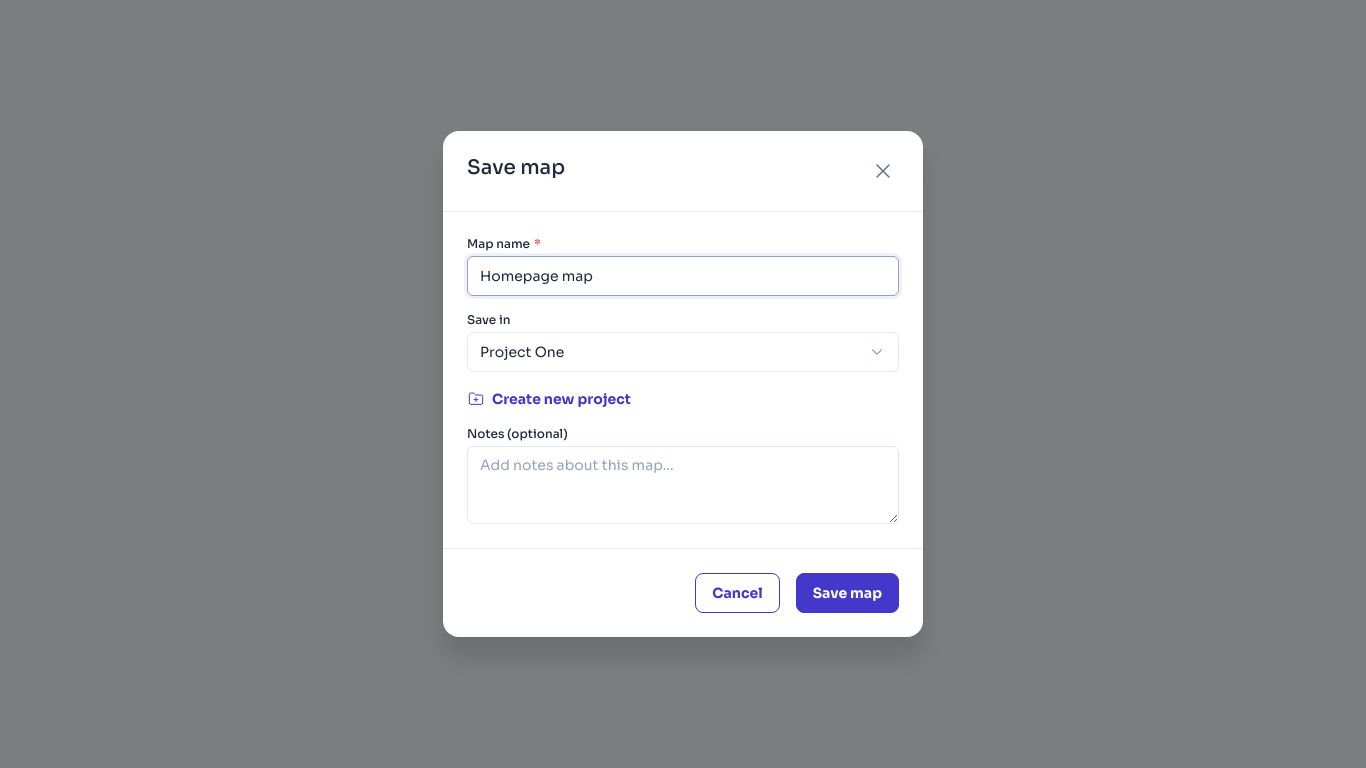
Scenario: SaveMapModal › blocks duplicate map names within the selected project
Click the button "Save map". click: point(847, 593)
box: top-left (796, 573), bottom-right (899, 613)
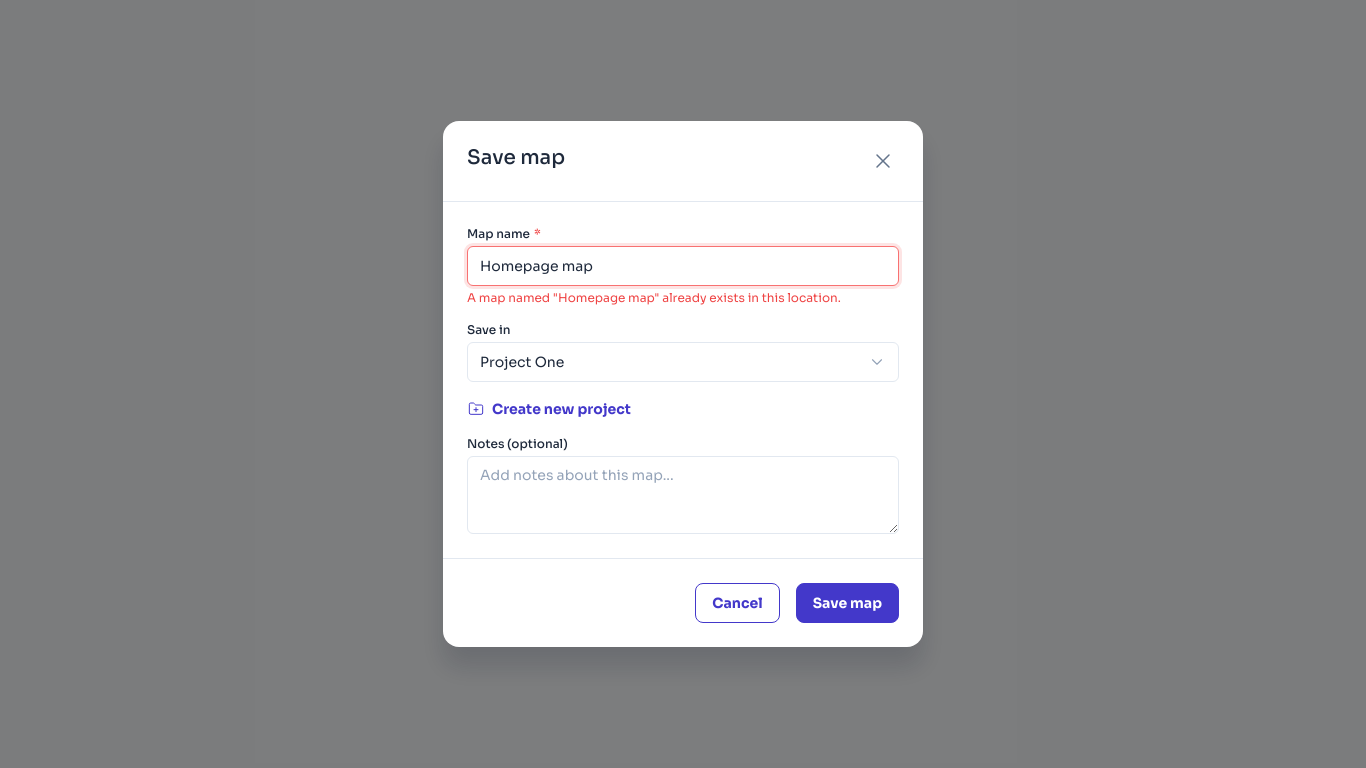
Expected: the text "already exists in this location" is shown, top-left (467, 290), bottom-right (841, 305)
